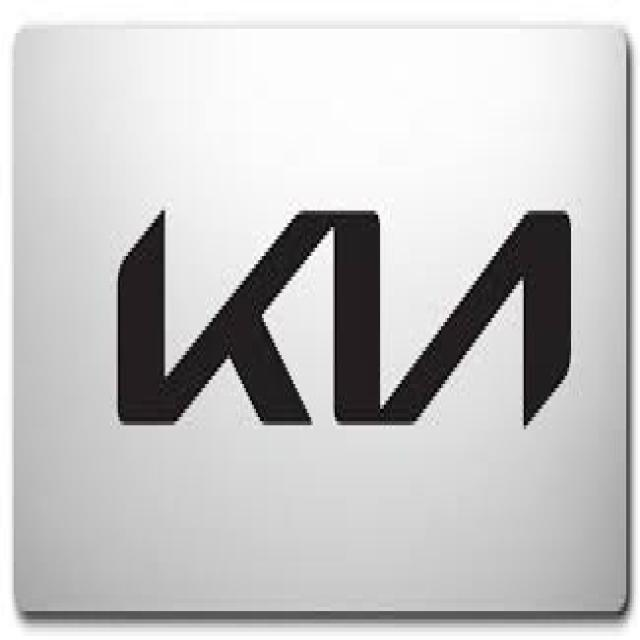kia: (109, 189, 584, 452)
